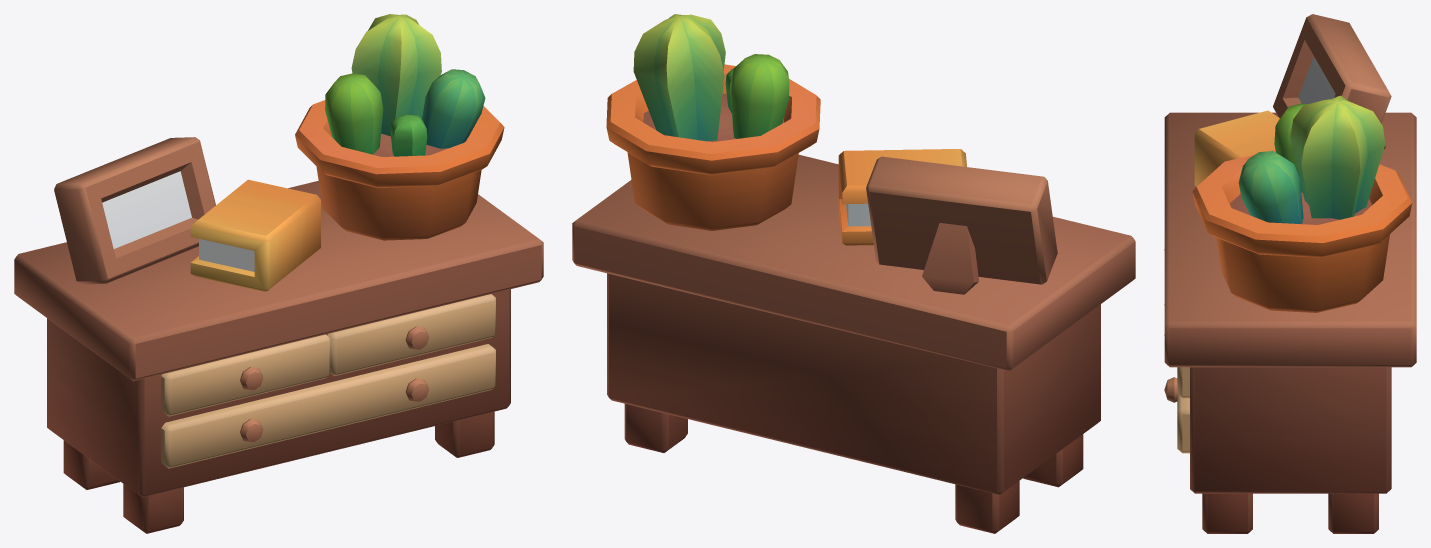
The model's file is kkf.cabinet_medium_decorated.glb.
The picture shows the model from 3 angles, left to right: view 1: azimuth 30°, elevation 25°; view 2: azimuth 150°, elevation 25°; view 3: azimuth 270°, elevation 25°; orthographic projection. The views are drawn at different scales.
Parts seen in each view (by area): view 1: cabinet_medium_decorated; view 2: cabinet_medium_decorated; view 3: cabinet_medium_decorated.
Boxes of the visible parts, left/top/right/bottom form: cabinet_medium_decorated: left=14, top=14, right=543, bottom=533; cabinet_medium_decorated: left=572, top=14, right=1135, bottom=533; cabinet_medium_decorated: left=1164, top=14, right=1416, bottom=533.
Size of the model in its own units: 1.46 by 1.31 by 0.7165.
Materials: 1 (1 with a texture image).
